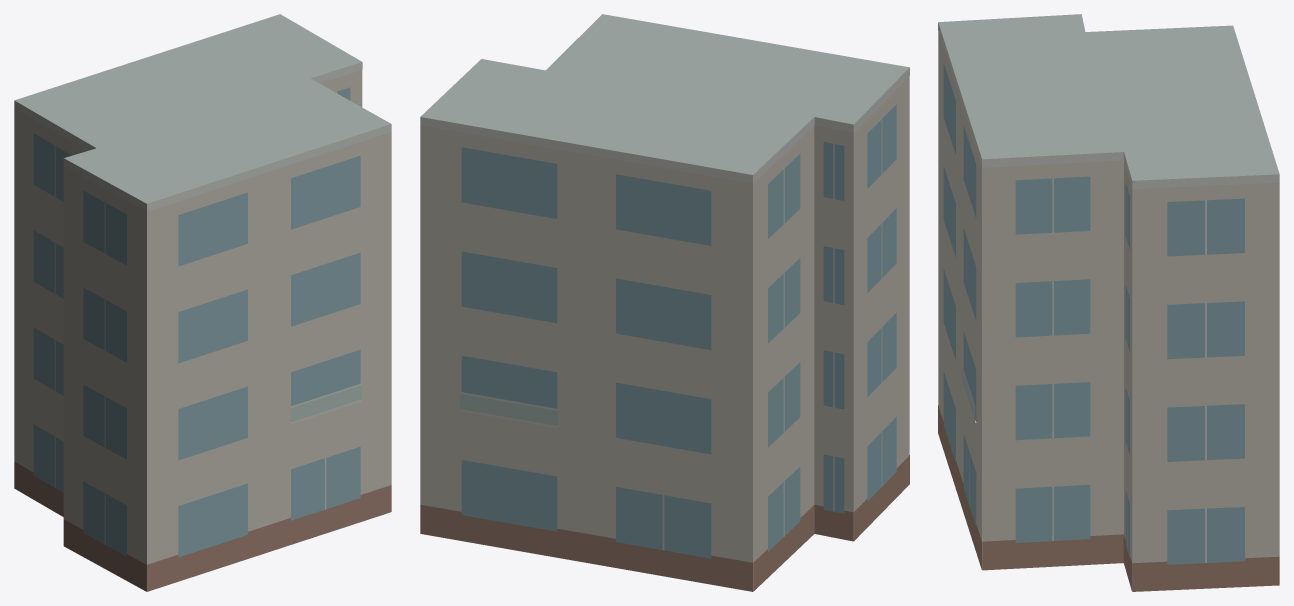
The model's file is survey-upis-33033021.glb.
3 renders of one model, left to right at view 1: azimuth 30°, elevation 25°; view 2: azimuth 150°, elevation 25°; view 3: azimuth 270°, elevation 25°, orthographic. The views are drawn at different scales.
Visible parts, largest first — view 1: survey-upis-33033021.tmp; view 2: survey-upis-33033021.tmp; view 3: survey-upis-33033021.tmp.
Part boxes in pixels (left/top/right/bottom): survey-upis-33033021.tmp: left=14, top=14, right=391, bottom=591; survey-upis-33033021.tmp: left=420, top=14, right=909, bottom=591; survey-upis-33033021.tmp: left=938, top=14, right=1279, bottom=591.
Size of the model in its own units: 10.45 by 12 by 9.05.
